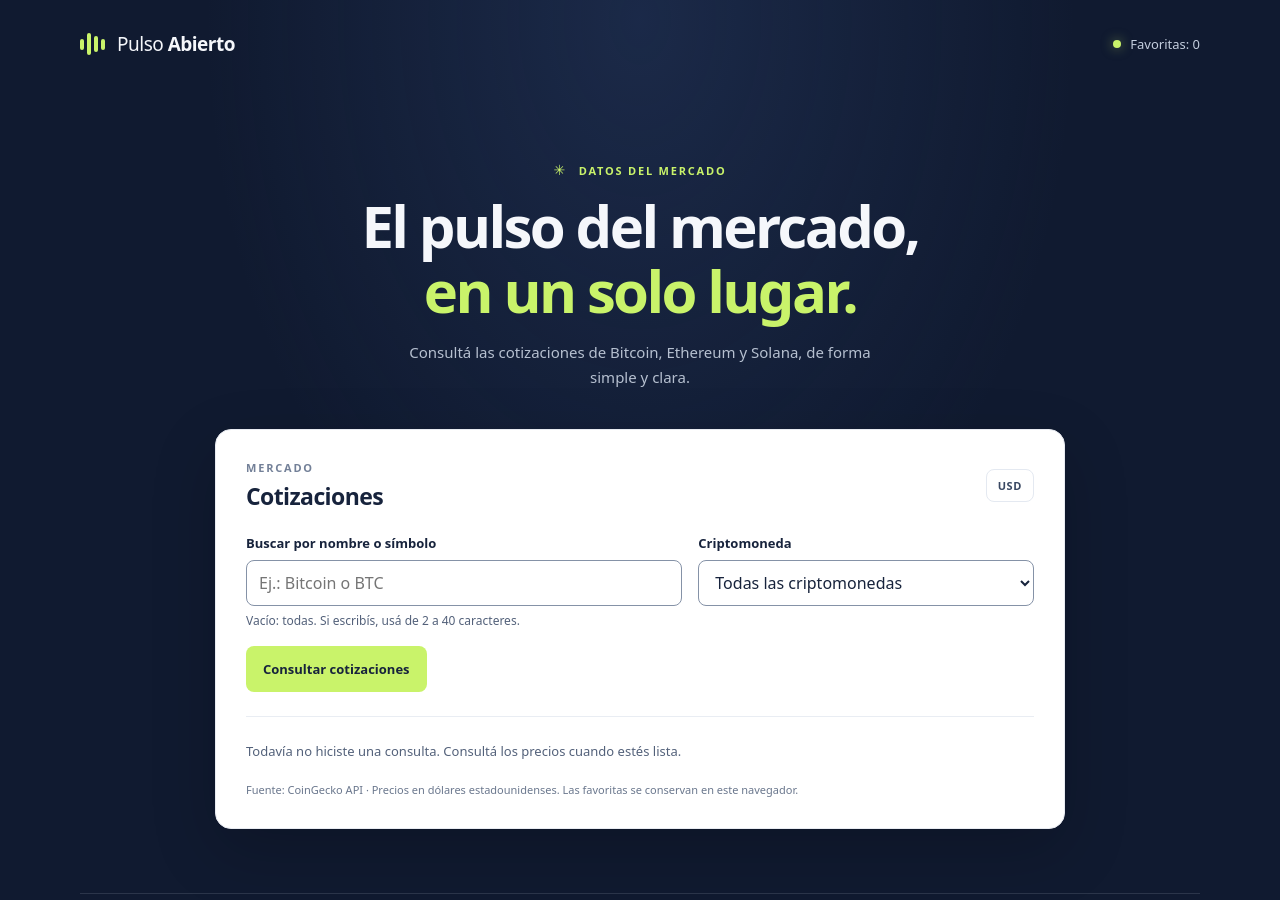
recorridos de Pulso Abierto › muestra ausencia de datos sin inventar cotizaciones
The image size is (1280, 900).
Click the button "Consultar cotizaciones".
click(336, 669)  # box [246,646,426,692]
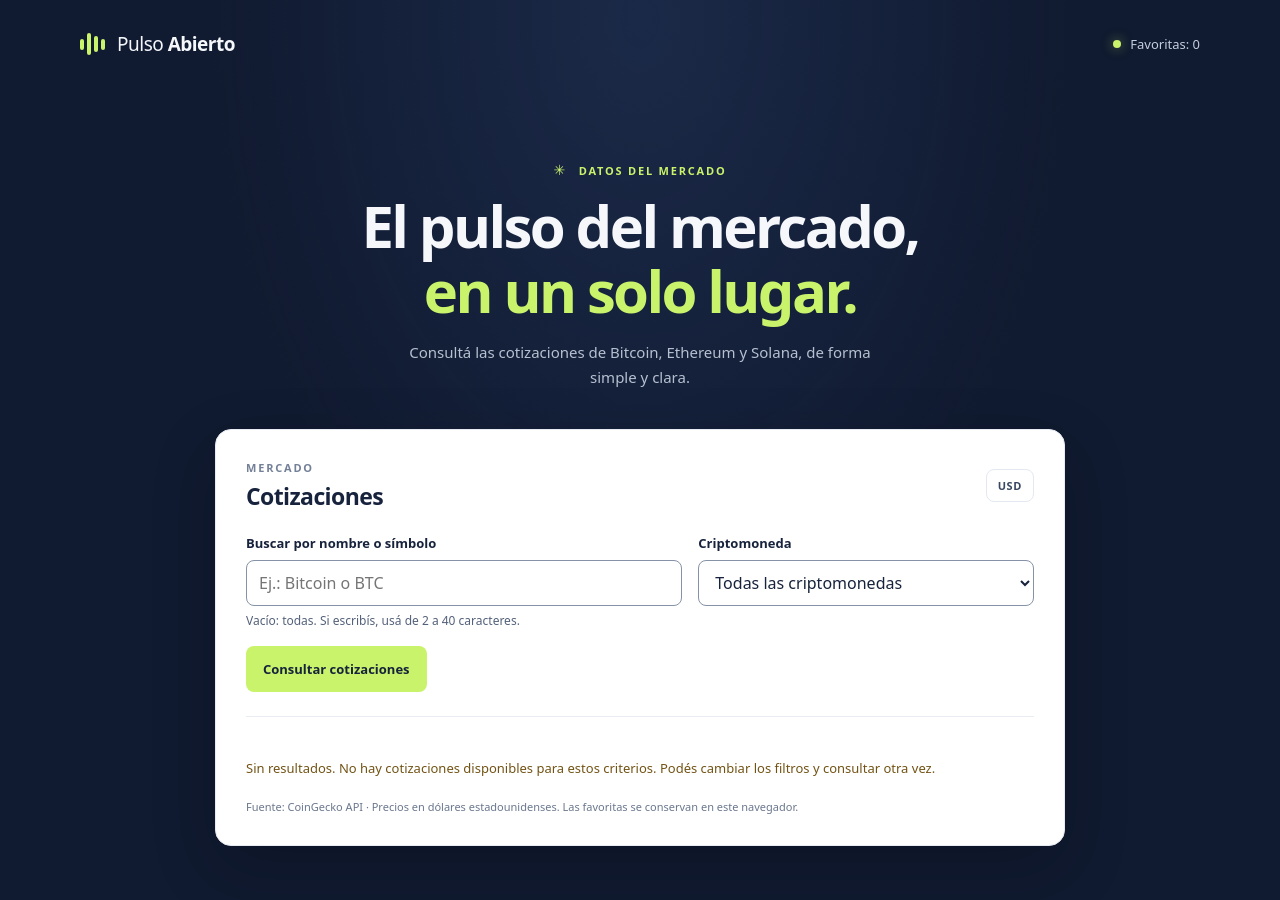
Expected: the message shows "Sin resultados", [246,759,935,777]
